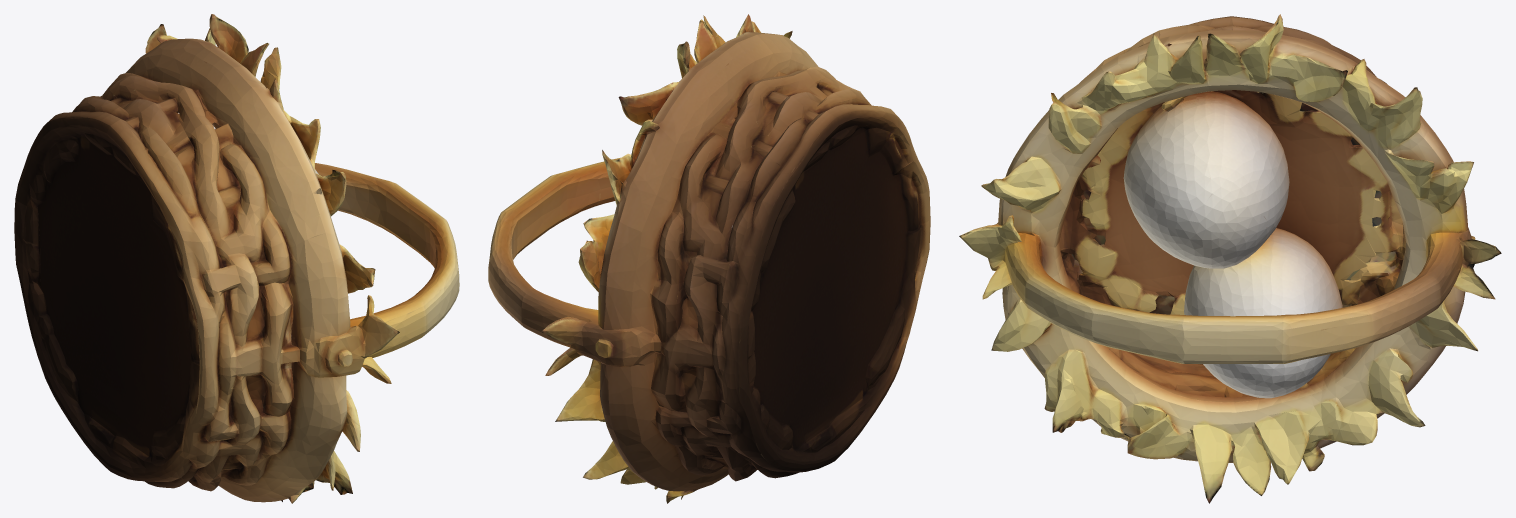
Rendered from nest_basket_comfyui.glb.
3 renders of one model, left to right at view 1: azimuth 30°, elevation 25°; view 2: azimuth 150°, elevation 25°; view 3: azimuth 270°, elevation 25°, orthographic.
Size of the model in its own units: 0.5856 by 0.8288 by 0.8597.
Materials: 1 (1 with a texture image).
